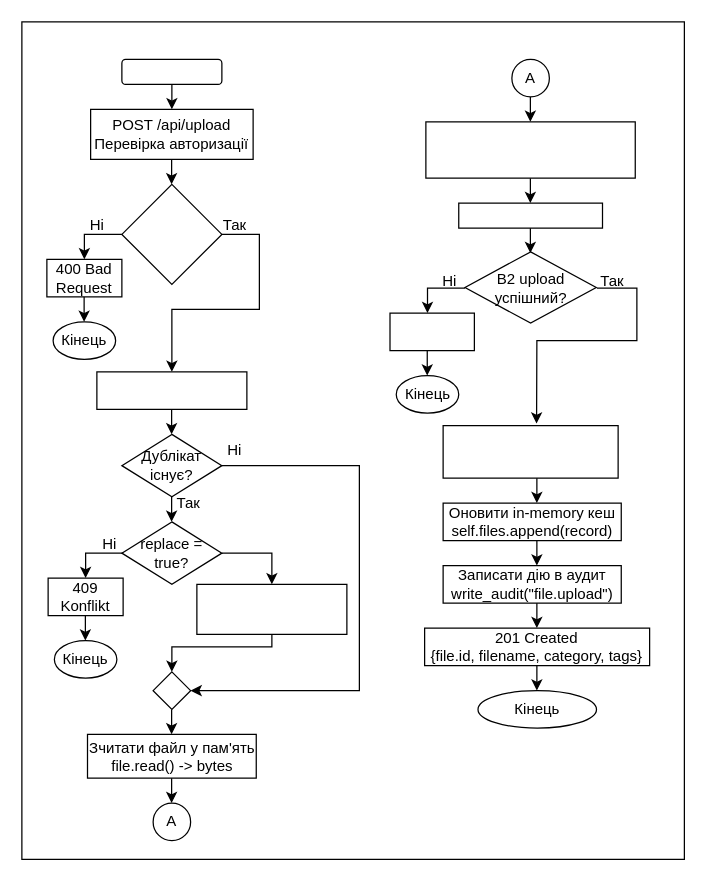
Some shapes in this 706 by 881 pixel diagram are drawn without their labels. Here are the shapes that lost their labels. From the top down, the box of each, then its label:
(121, 58, 222, 84): Початок
(425, 121, 635, 178): AI-класифікація і тегування FileRecord() -> category, tags, confidence
(121, 183, 222, 284): Файл присутній у запиті?
(458, 202, 602, 228): Завантаження у В2
(389, 312, 474, 351): 500 Server Error
(96, 371, 247, 409): safe_filename() Санація імені файлу
(442, 424, 618, 478): Зберегти метадані в Supabase (upsert files + file tags)
(196, 583, 347, 634): Видалити старий файл з B2 і метадані з Supabase
